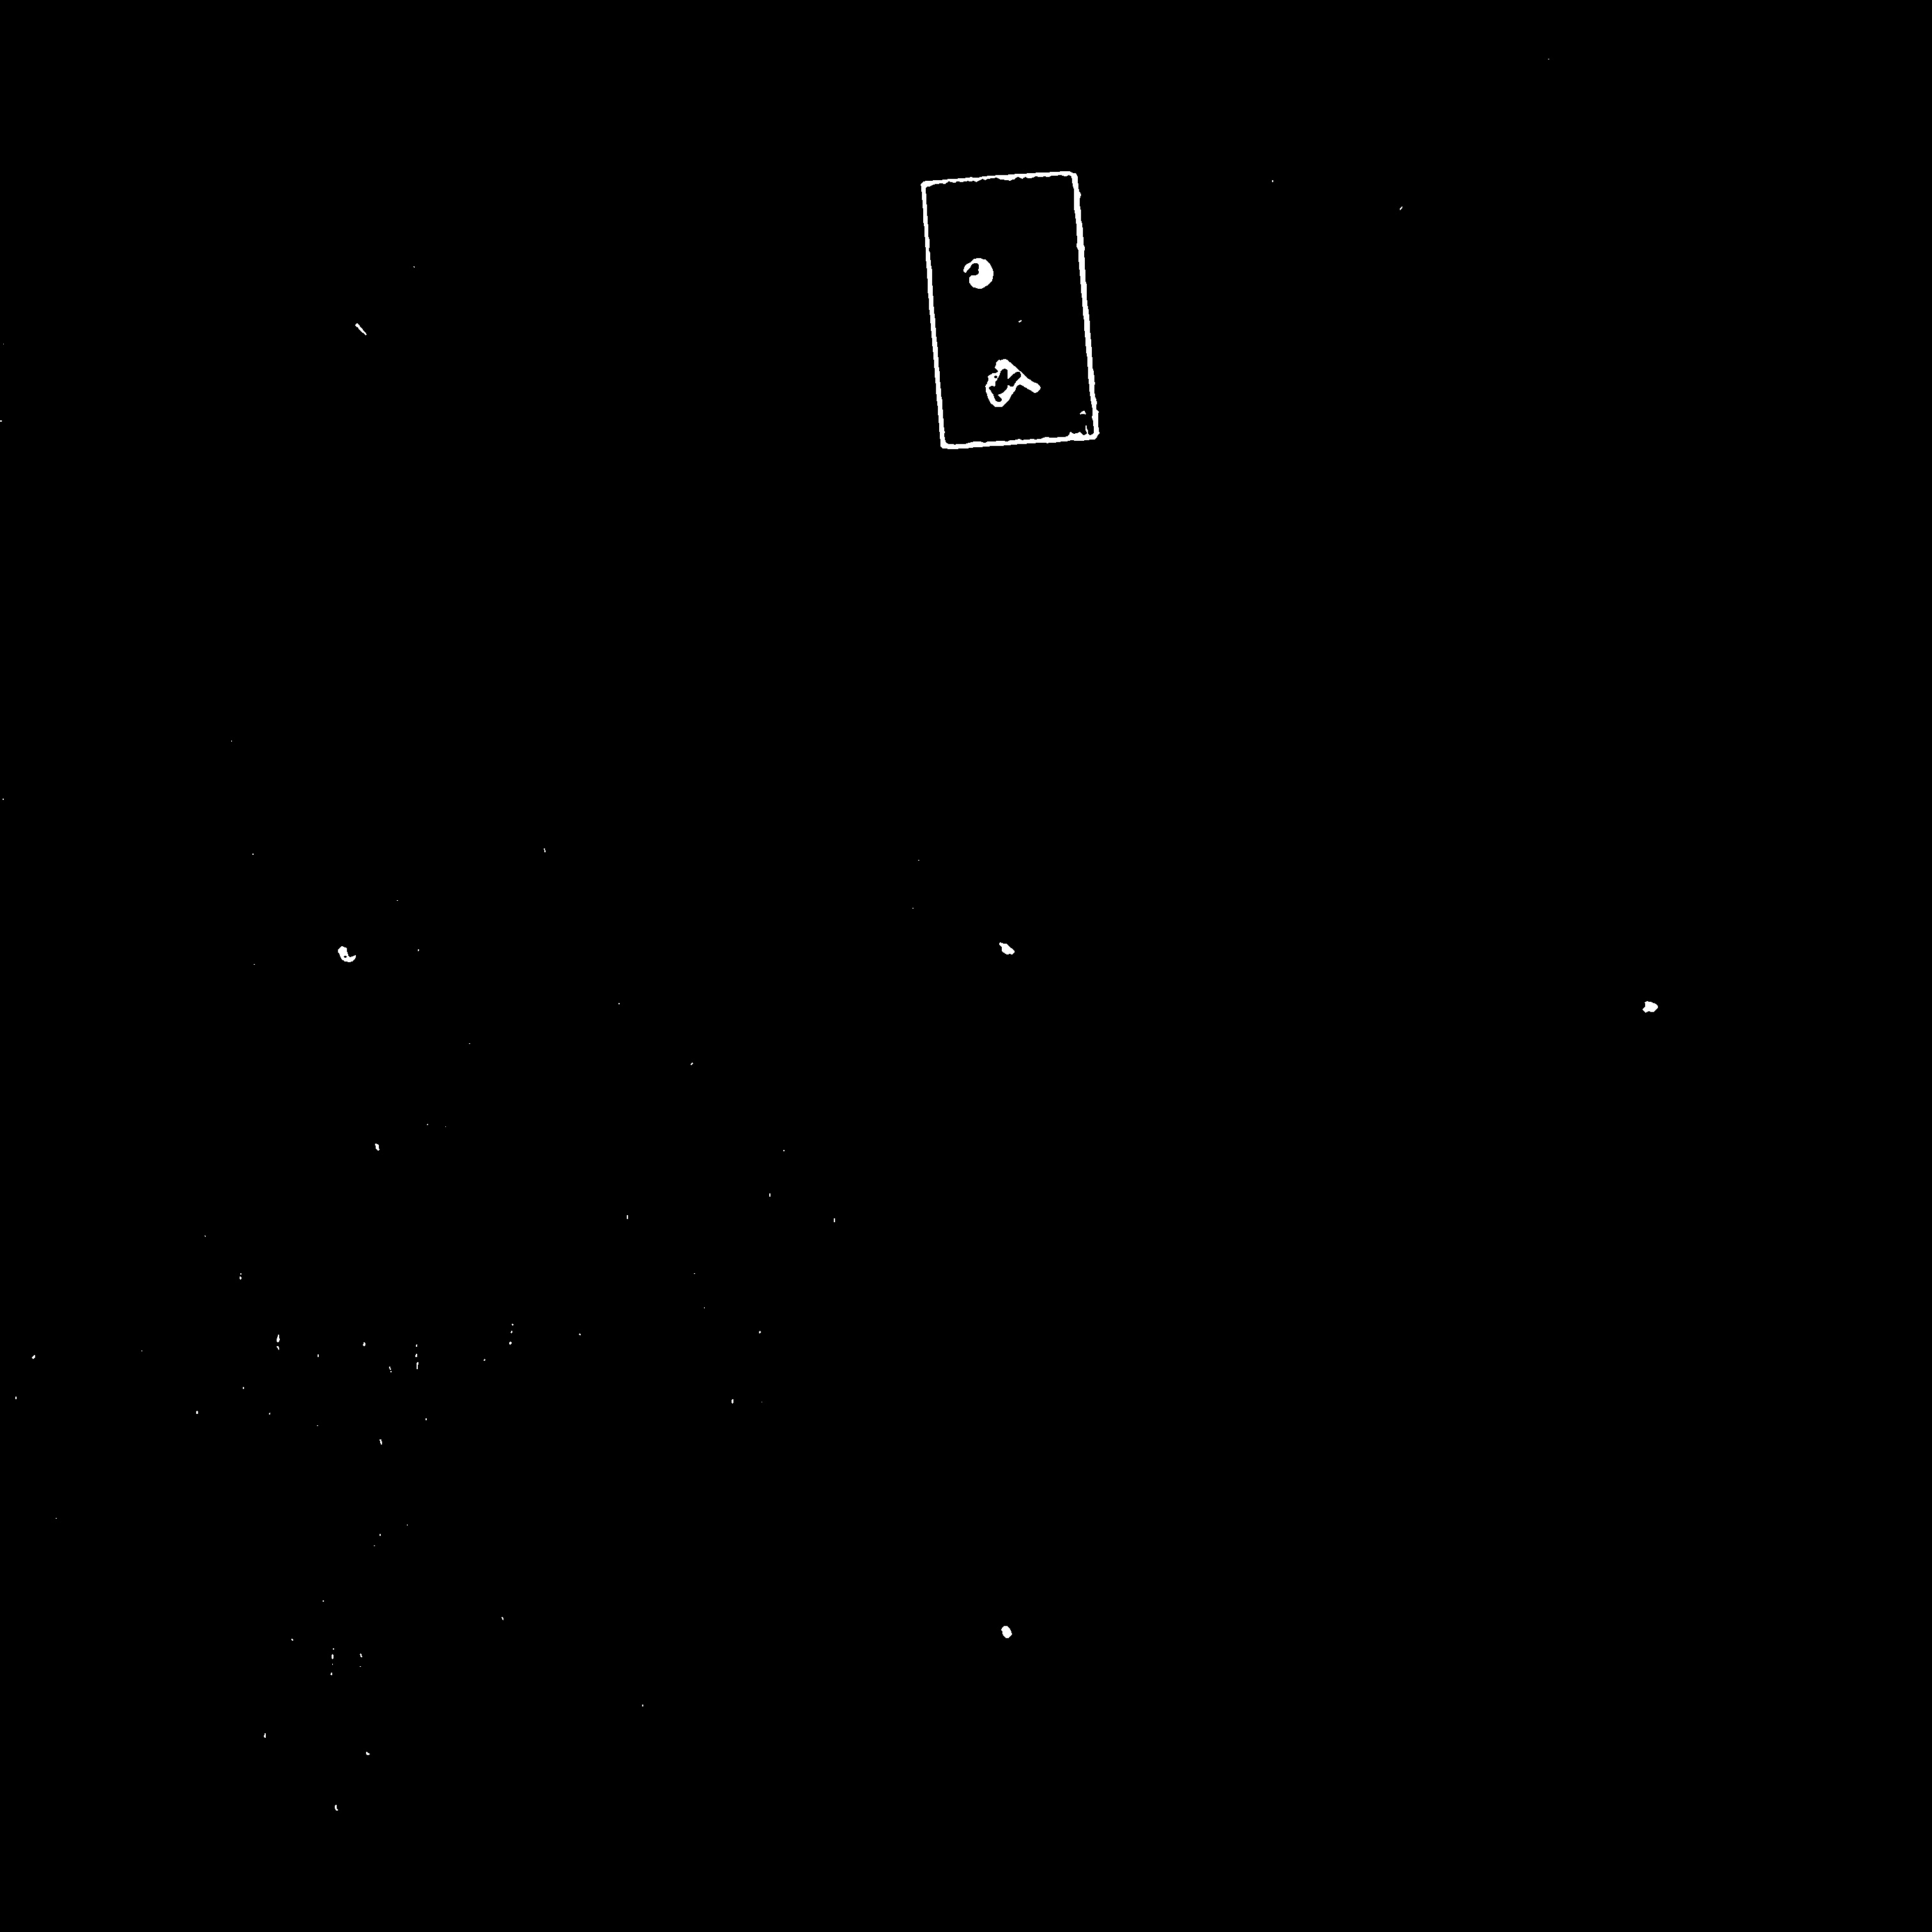a: (947, 239, 1053, 348)
